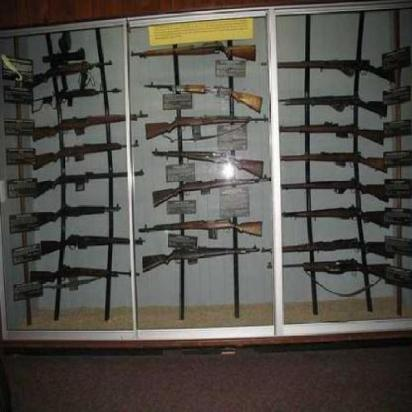Gun: (149, 176, 269, 207), (131, 40, 259, 67), (146, 112, 269, 139)
